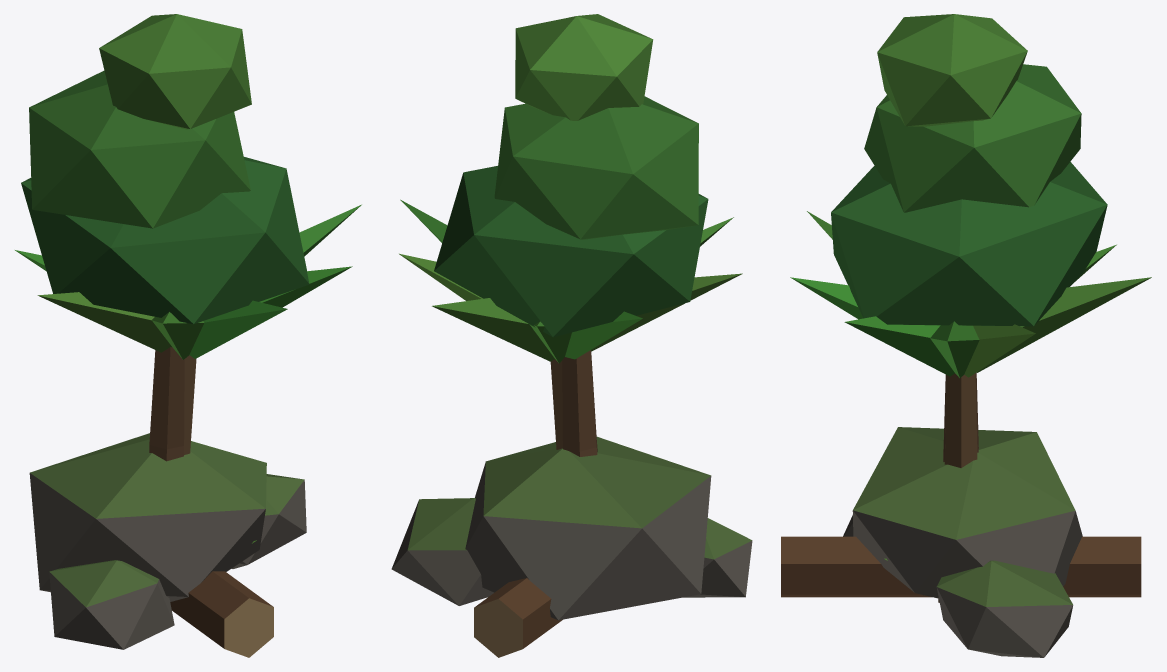
File: props.fbx
The picture shows the model from 3 angles, left to right: view 1: azimuth 30°, elevation 25°; view 2: azimuth 150°, elevation 25°; view 3: azimuth 270°, elevation 25°; orthographic projection. The views are drawn at different scales.
Parts seen in each view (by area): view 1: prop_Tree, prop_RockBig, prop_Palm, prop_Log; view 2: prop_Tree, prop_RockBig, prop_Palm, prop_Log; view 3: prop_Tree, prop_RockBig, prop_Palm, prop_Log.
Part boxes in pixels (x1,y1,x2,y2): prop_Tree: [21, 14, 309, 461]; prop_RockBig: [29, 433, 306, 649]; prop_Palm: [15, 204, 361, 454]; prop_Log: [170, 571, 273, 657]; prop_Tree: [434, 14, 708, 456]; prop_RockBig: [391, 436, 752, 620]; prop_Palm: [399, 199, 742, 449]; prop_Log: [474, 578, 562, 657]; prop_Tree: [831, 14, 1107, 602]; prop_RockBig: [843, 427, 1082, 657]; prop_Palm: [790, 211, 1151, 467]; prop_Log: [781, 536, 1141, 597].
Size of the model in its own units: 8.25 by 13.85 by 7.74.
